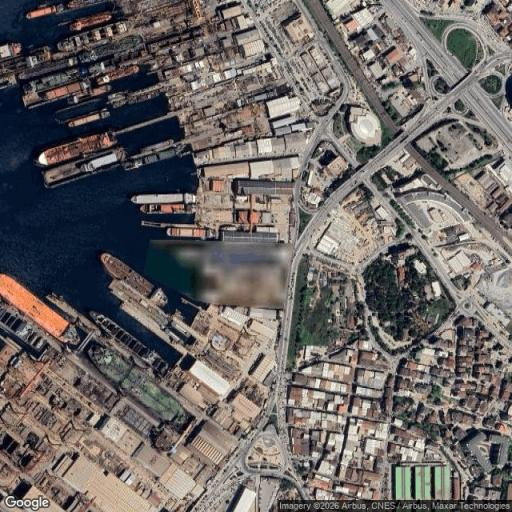ship: (0, 275, 75, 342), (90, 312, 168, 376), (101, 253, 167, 306), (43, 148, 124, 187), (37, 132, 116, 166), (57, 22, 127, 51), (23, 80, 89, 107), (79, 36, 143, 63), (23, 67, 80, 93), (19, 58, 77, 79), (68, 85, 111, 104), (97, 65, 139, 84), (70, 12, 111, 31), (68, 109, 109, 127), (131, 193, 195, 204), (26, 3, 64, 19), (167, 225, 210, 239), (26, 47, 51, 68), (139, 140, 174, 154), (140, 203, 187, 213), (0, 43, 22, 59), (67, 0, 104, 9)
